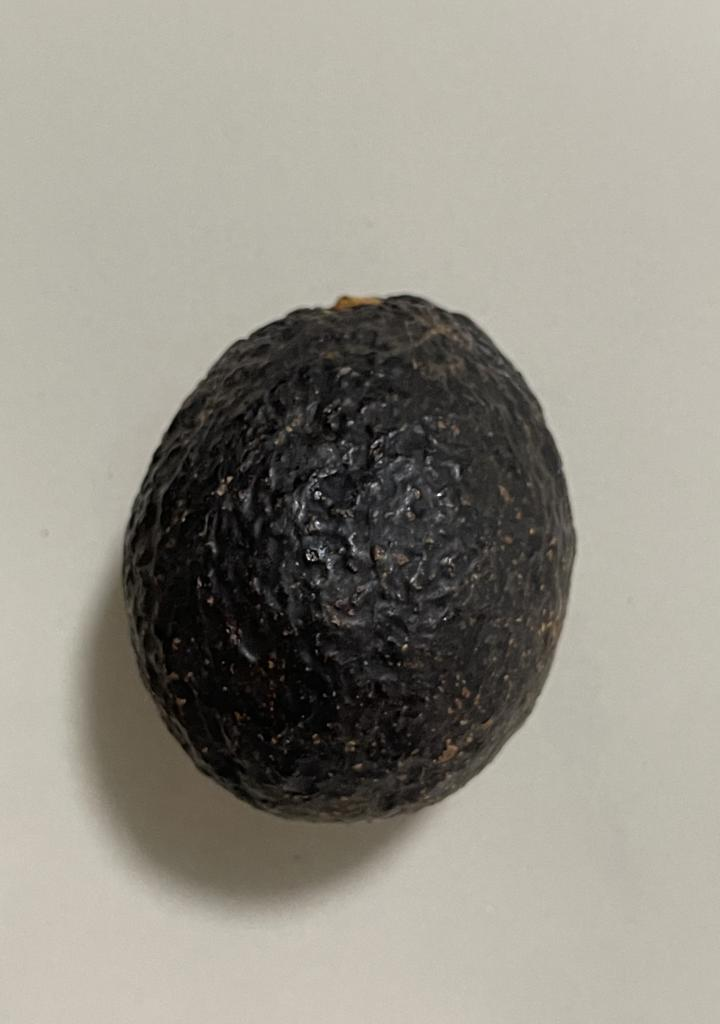Level2: (112, 279, 586, 831)
